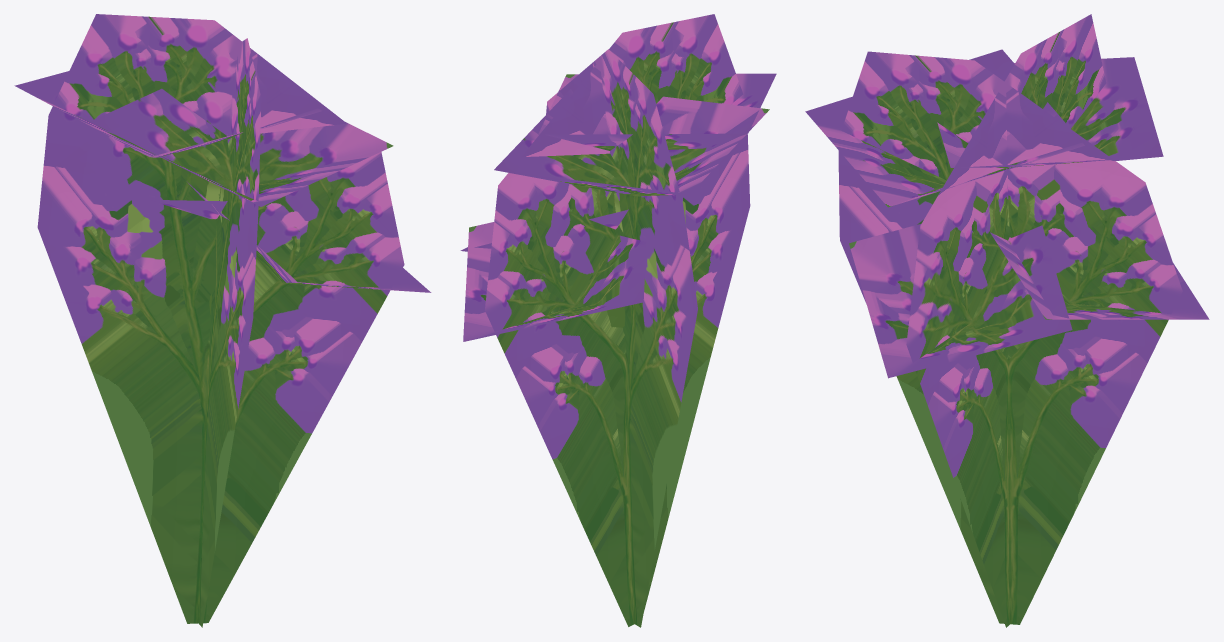
The model's file is SM_Flower_10_02.fbx.
3 renders of one model, left to right at view 1: azimuth 30°, elevation 25°; view 2: azimuth 150°, elevation 25°; view 3: azimuth 270°, elevation 25°, orthographic. The views are drawn at different scales.
Parts seen in each view (by area): view 1: SM_Flower_10_02_LOD0; view 2: SM_Flower_10_02_LOD0; view 3: SM_Flower_10_02_LOD0.
Boxes of the visible parts, x1,y1,x2,y2 form: SM_Flower_10_02_LOD0: (14, 14, 431, 627); SM_Flower_10_02_LOD0: (460, 14, 776, 627); SM_Flower_10_02_LOD0: (805, 14, 1209, 627).
Size of what is drawn, in the model's own units: 48.67 by 94.81 by 59.81.
